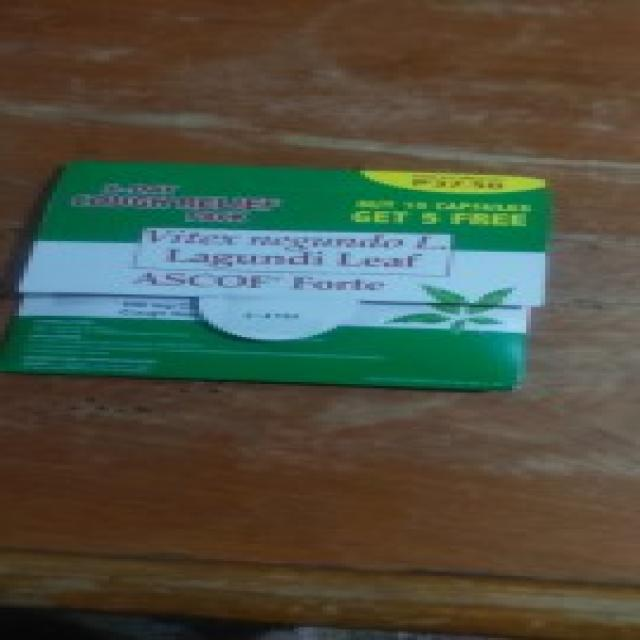Cacat: (0, 162, 559, 390)
